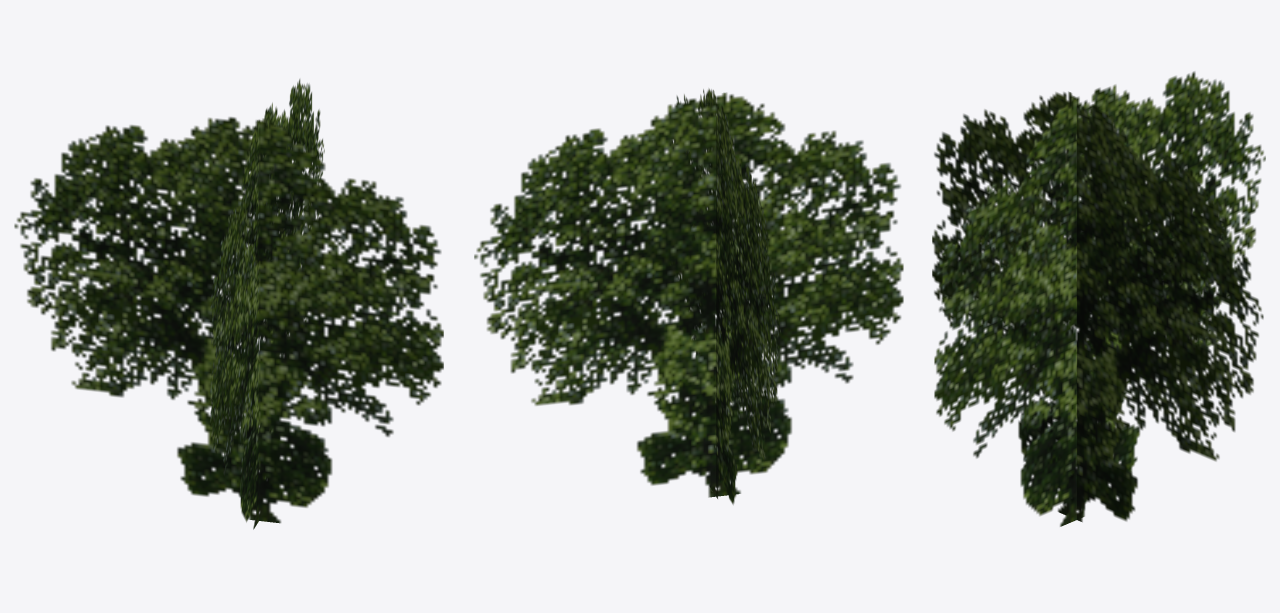
File: tree103.glb
3 renders of one model, left to right at view 1: azimuth 30°, elevation 25°; view 2: azimuth 150°, elevation 25°; view 3: azimuth 270°, elevation 25°, orthographic. The views are drawn at different scales.
Parts seen in each view (by area): view 1: tree103; view 2: tree103; view 3: tree103.
Part boxes in pixels (x1,y1,x2,y2): tree103: (14, 79, 443, 529); tree103: (474, 88, 903, 504); tree103: (932, 71, 1265, 526).
Bounding box in the file's own units: 3.14 × 4 × 2.78.
1 material, 1 textured.
